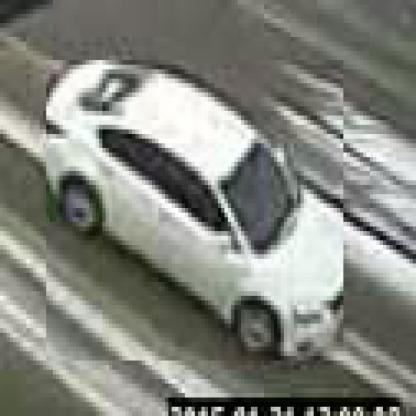car: (47, 61, 348, 366)
